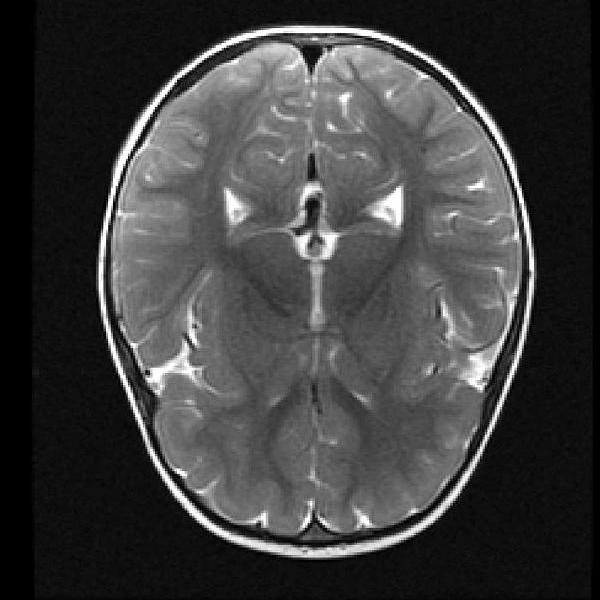Normal_Brain: (39, 1, 541, 600)
